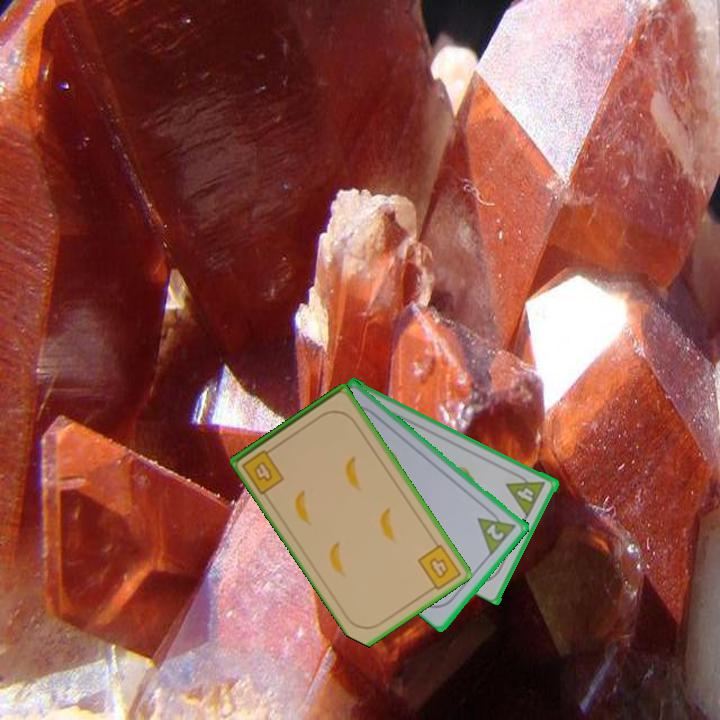2p: (474, 504, 520, 557)
4b: (414, 541, 464, 595), (238, 443, 287, 497)
4p: (503, 468, 548, 519)
